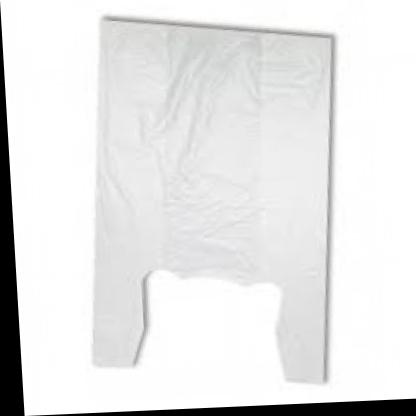Plastic: (52, 0, 380, 407)
